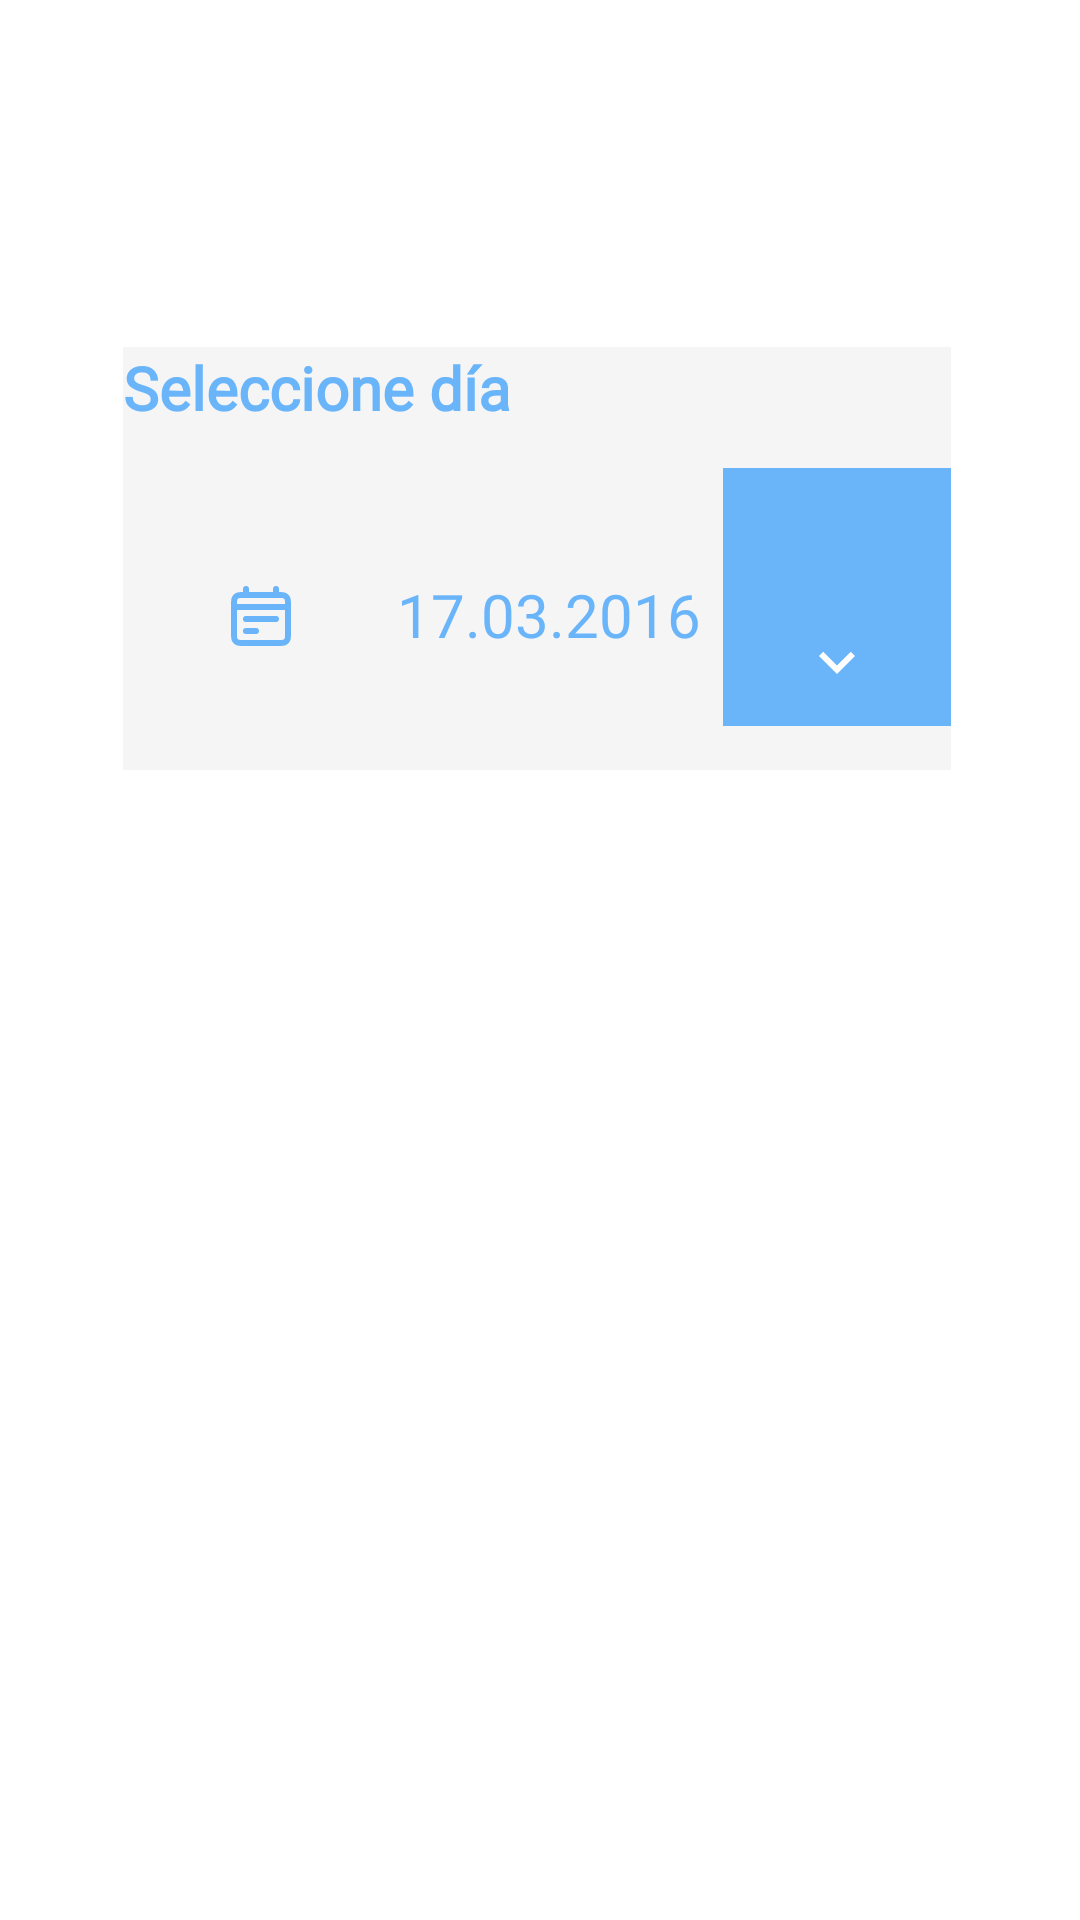

Icon bounding boxes for this 1080*1920 phone screenshot, format (x1, y1, x2, y2):
calendario: (231, 586, 291, 646)
flechadown: (819, 652, 855, 674)
